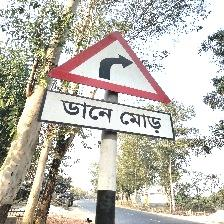Right-turn: (42, 31, 176, 142)
